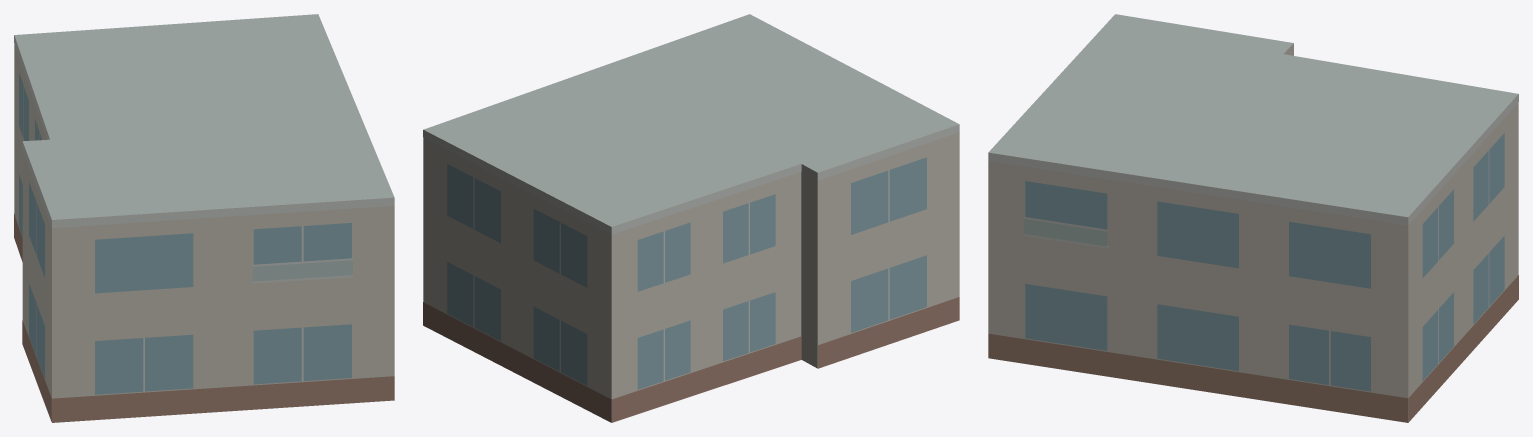
File: survey-upis-32765872.glb
3 renders of one model, left to right at view 1: azimuth 30°, elevation 25°; view 2: azimuth 150°, elevation 25°; view 3: azimuth 270°, elevation 25°, orthographic. The views are drawn at different scales.
Parts seen in each view (by area): view 1: survey-upis-32765872.tmp; view 2: survey-upis-32765872.tmp; view 3: survey-upis-32765872.tmp.
Boxes of the visible parts, x1,y1,x2,y2 form: survey-upis-32765872.tmp: (14,14,394,422); survey-upis-32765872.tmp: (423,14,959,422); survey-upis-32765872.tmp: (988,14,1518,422).
Size of the model in its own units: 12.94 by 6.1 by 14.28.
